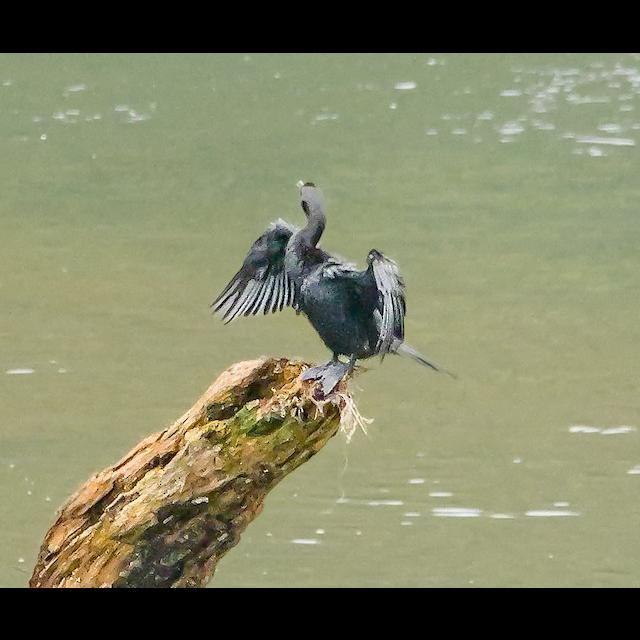cormorant: (218, 157, 454, 390)
